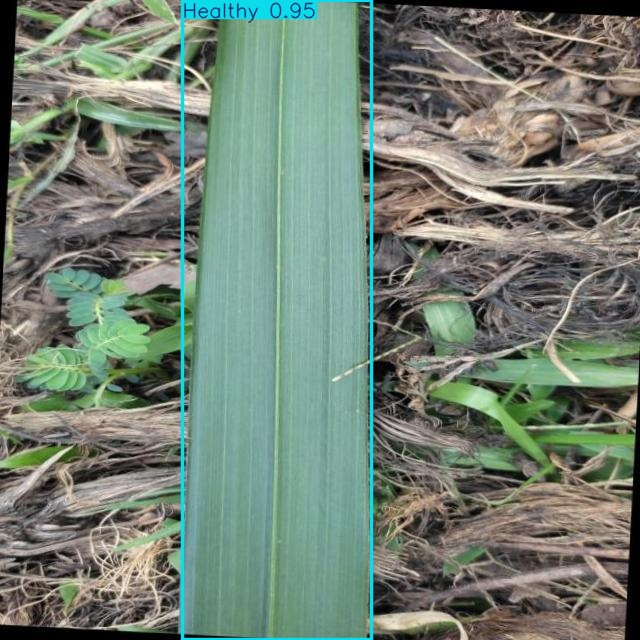Healthy: (183, 0, 371, 640)
